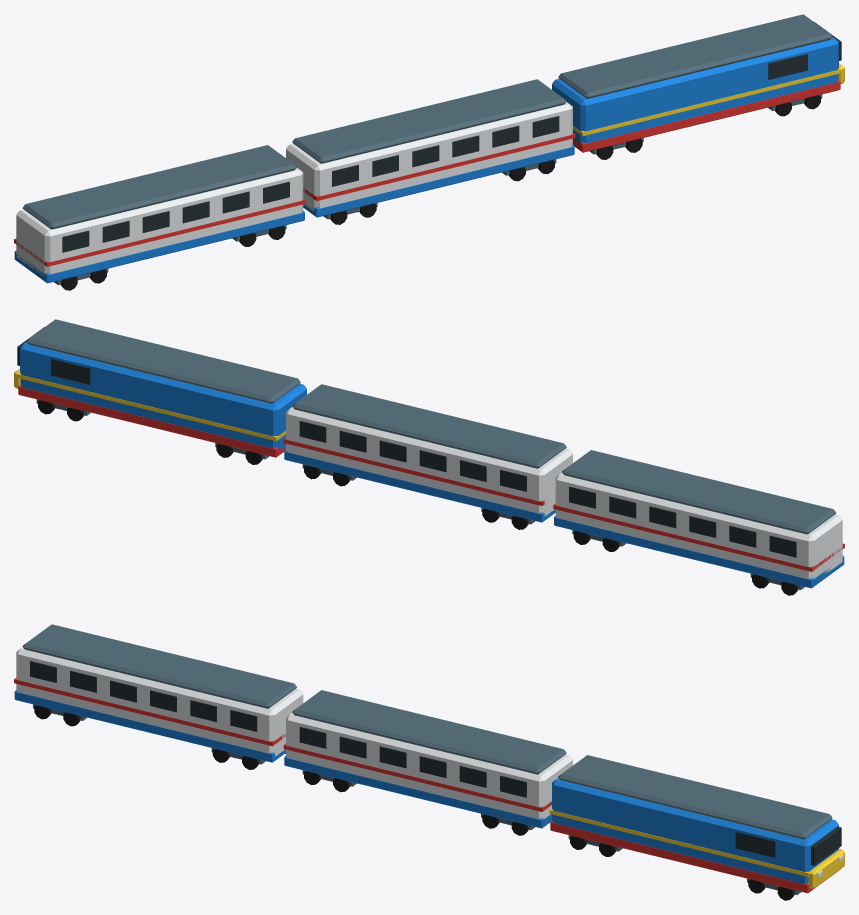
The model's file is train.glb.
The picture shows the model from 3 angles, top to bottom: view 1: azimuth 30°, elevation 25°; view 2: azimuth 150°, elevation 25°; view 3: azimuth 330°, elevation 25°; orthographic projection.
Visible parts, largest first — view 1: train; view 2: train; view 3: train.
Boxes of the visible parts, x1,y1,x2,y2 form: train: [14, 14, 844, 290]; train: [14, 319, 844, 595]; train: [14, 624, 844, 900].
Size of the model in its own units: 43.96 by 3.71 by 3.14.
